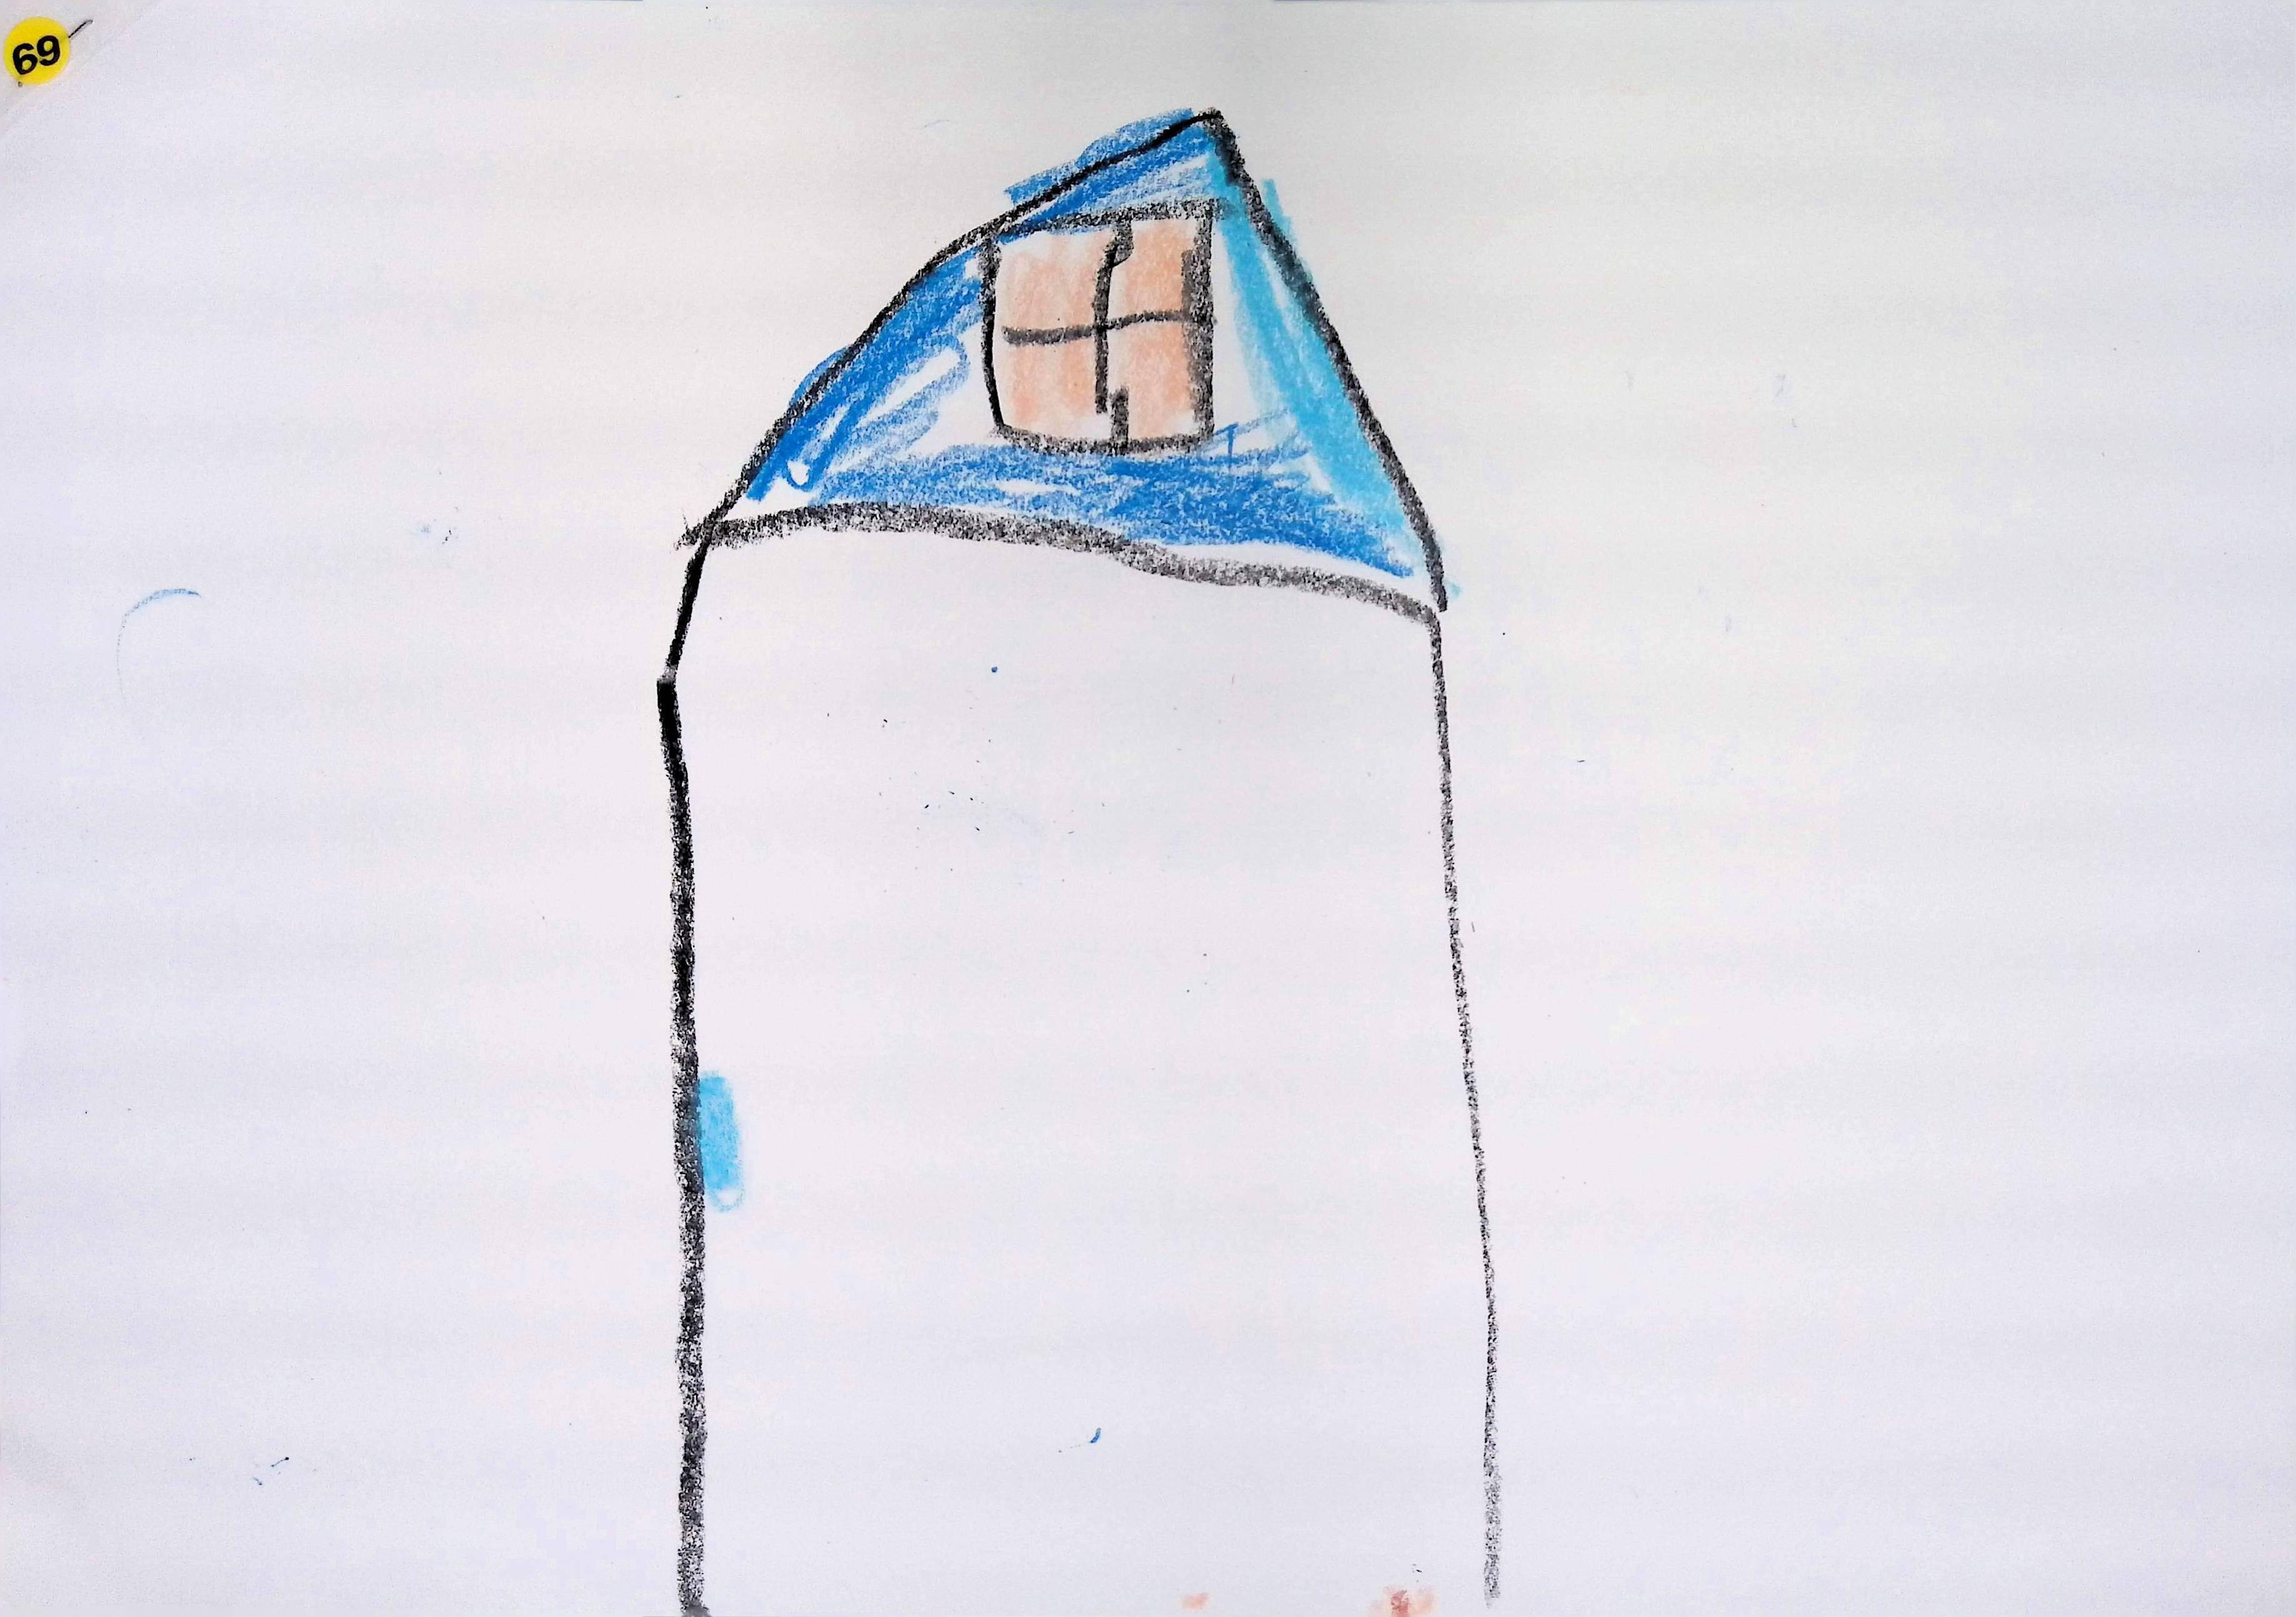house: (656, 108, 1487, 1608)
roof: (682, 108, 1445, 621)
window: (987, 198, 1213, 448)
